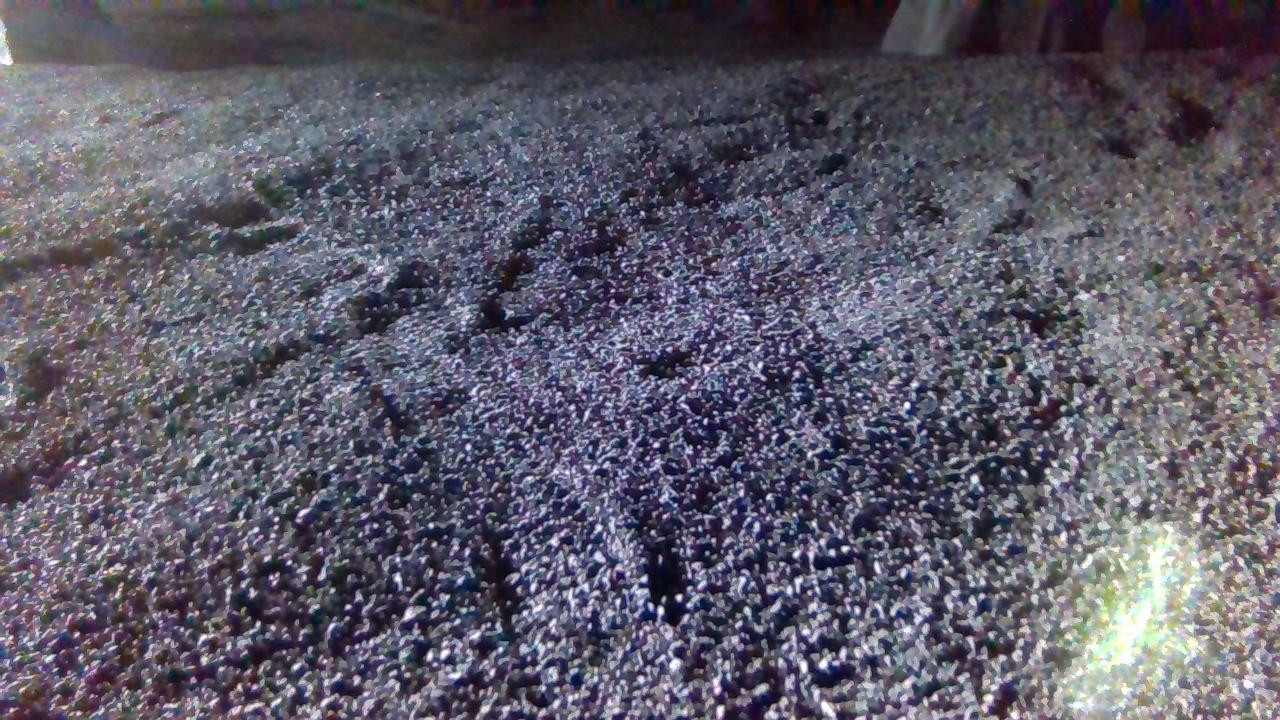rock: (883, 0, 1146, 54)
